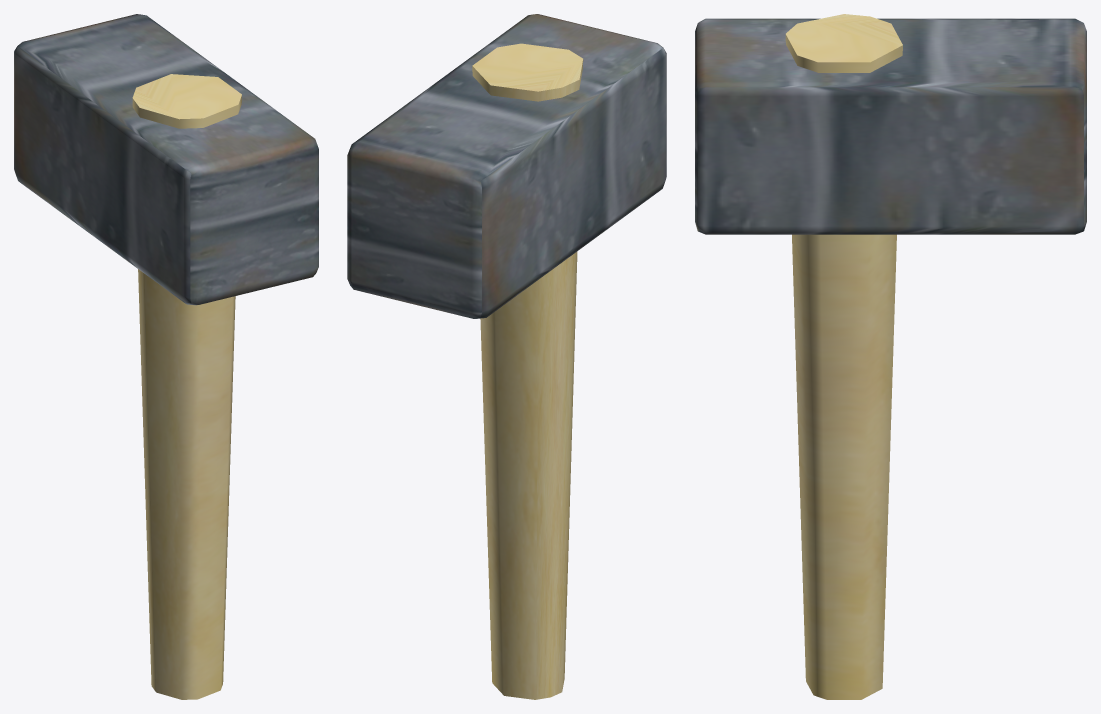
The model's file is Hammer_1.fbx.
The picture shows the model from 3 angles, left to right: view 1: azimuth 30°, elevation 25°; view 2: azimuth 150°, elevation 25°; view 3: azimuth 270°, elevation 25°; orthographic projection. The views are drawn at different scales.
Parts seen in each view (by area): view 1: Hammer__1; view 2: Hammer__1; view 3: Hammer__1.
Part boxes in pixels (left/top/right/bottom): Hammer__1: left=14, top=14, right=318, bottom=699; Hammer__1: left=347, top=14, right=666, bottom=699; Hammer__1: left=695, top=14, right=1086, bottom=699.
Size of the model in its own units: 0.9737 by 4.11 by 2.26.
Materials: 1 (1 with a texture image).
